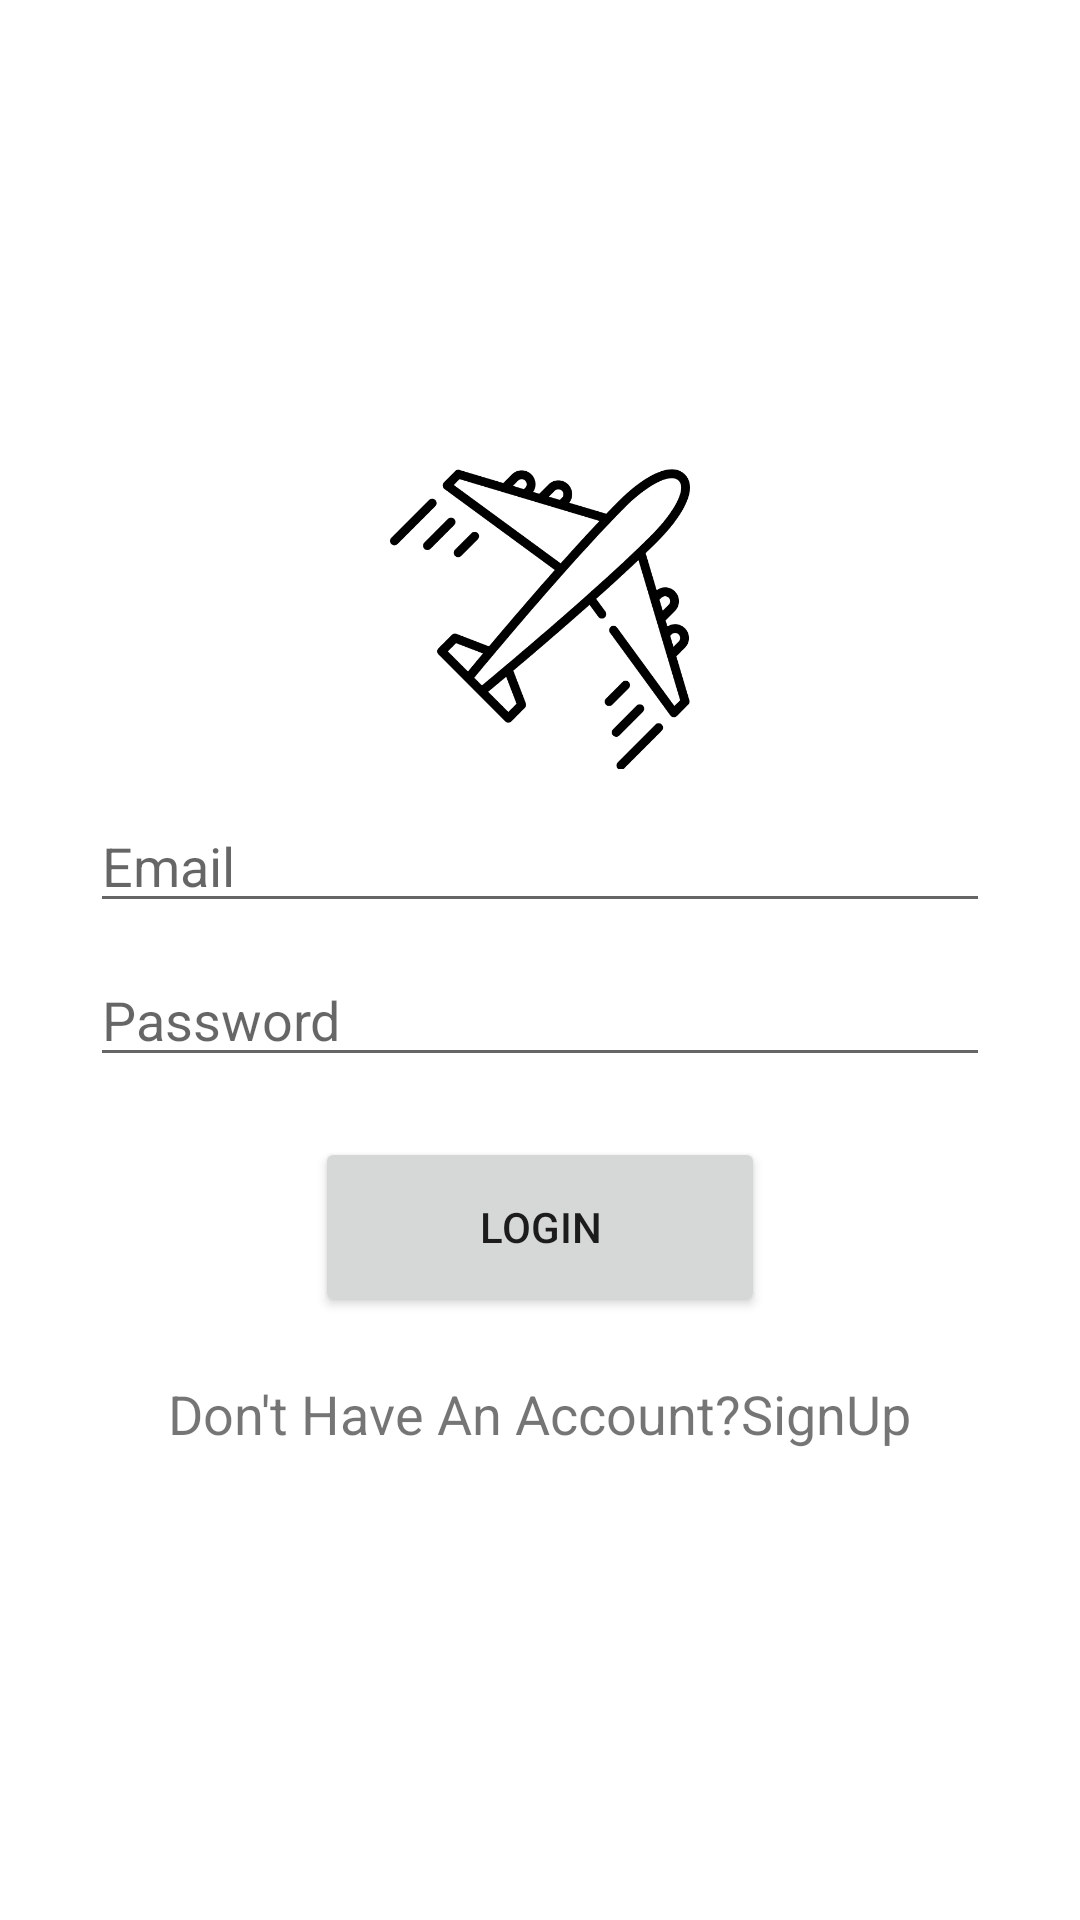

Screen size 1080 x 1920. Icon name, then its center in pixels as [x,y]:
airplane: [540,619]
